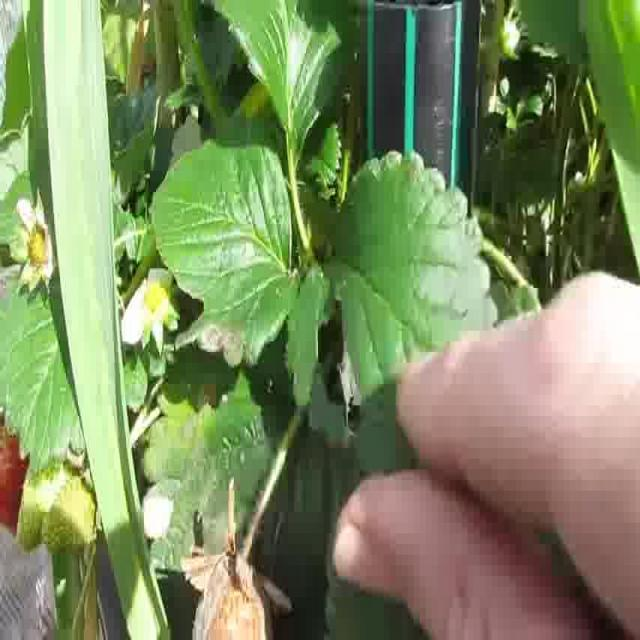Fruta sana: (15, 444, 81, 552), (42, 475, 100, 551), (0, 414, 33, 544), (142, 281, 168, 312), (28, 226, 46, 268)
Moho gris: (192, 552, 274, 640)
